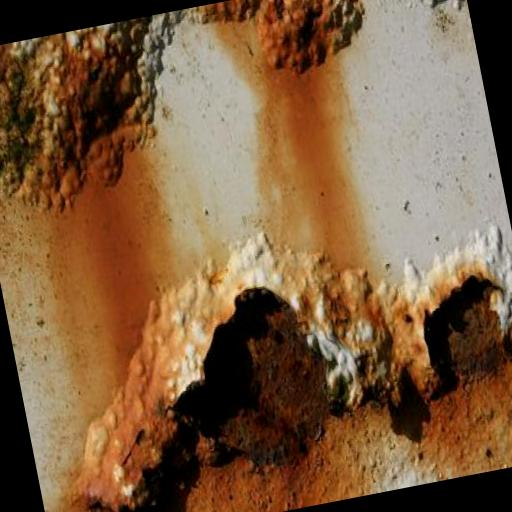segmentation: (60, 227, 512, 512), (6, 146, 228, 416), (0, 11, 172, 210), (263, 57, 365, 271), (194, 0, 363, 72)
